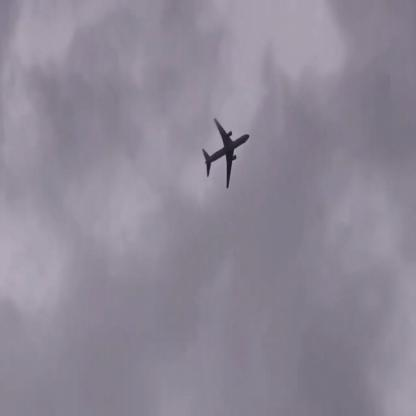CIV_Plane: (201, 119, 250, 188)
